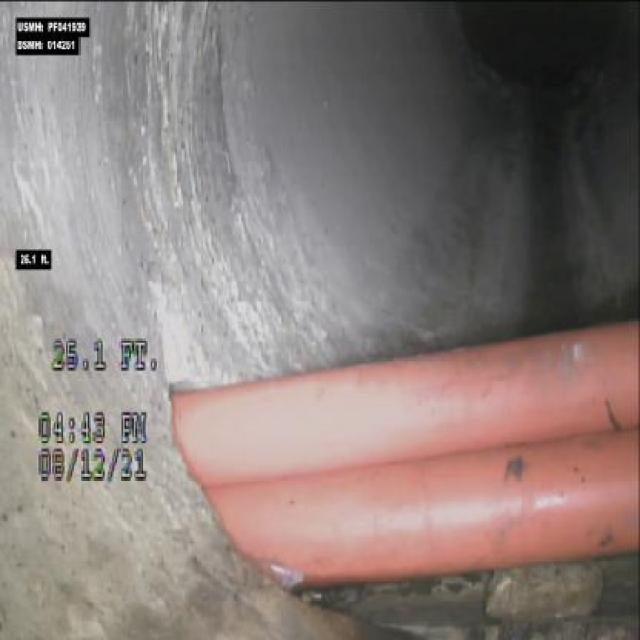Utility intrusion: (157, 301, 638, 614)
